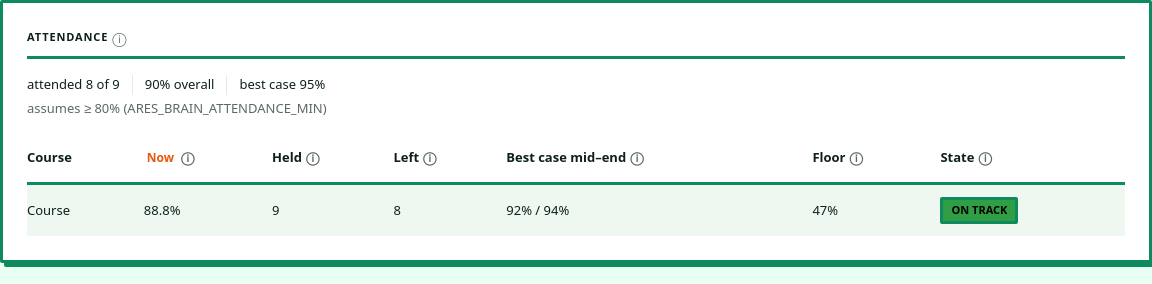
it: the Floor column header carries an InfoTip with the exact copy
Click the button "ⓘ" next to "Floor".
click(856, 158)  # box 850,148 -> 863,168
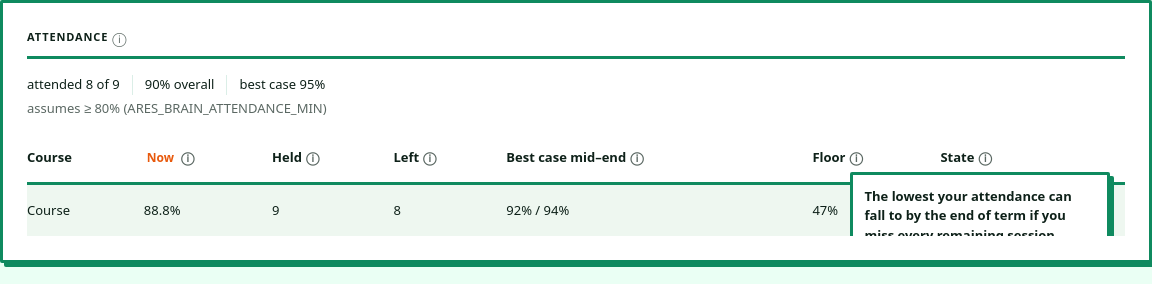
Expected: the tooltip shows "The lowest your attendance can fall to by the end of term if you miss every remaining session.", 864,187 -> 1072,236
